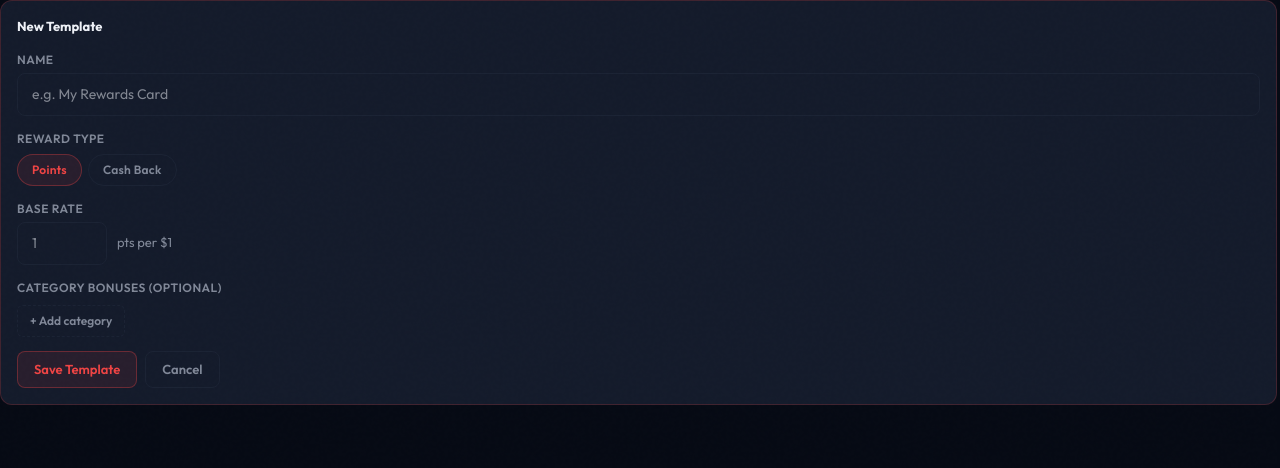
it: CustomProgramForm › adds and removes bonus category rows
Step 1. Click the button "+ Add category" → (71, 320), box [17, 304, 125, 336]
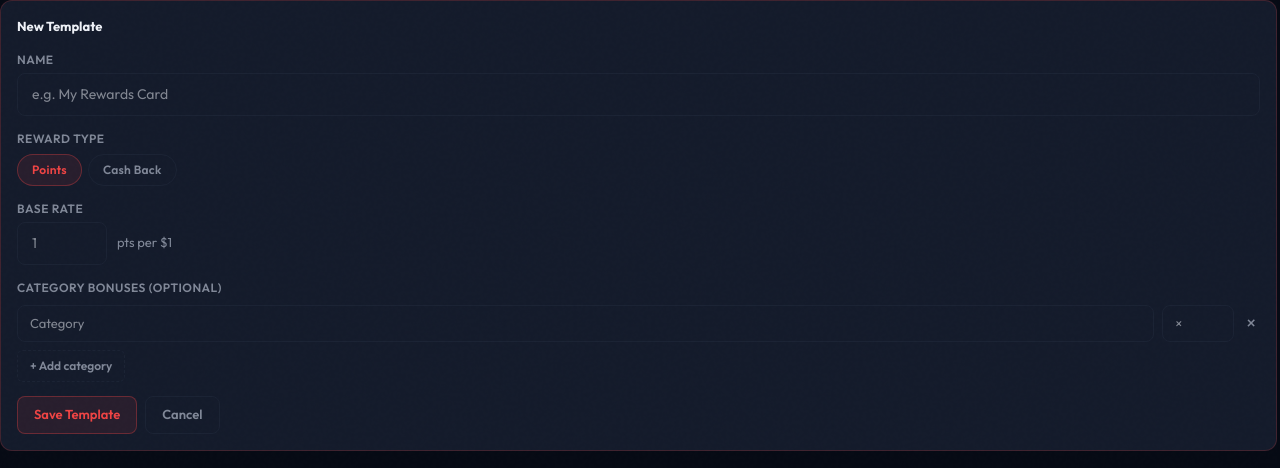
Expected: the field named "Reward category" is shown, [17, 304, 1154, 342]
Step 2. Click the button named "Remove category" → (1251, 323), box [1242, 310, 1260, 336]
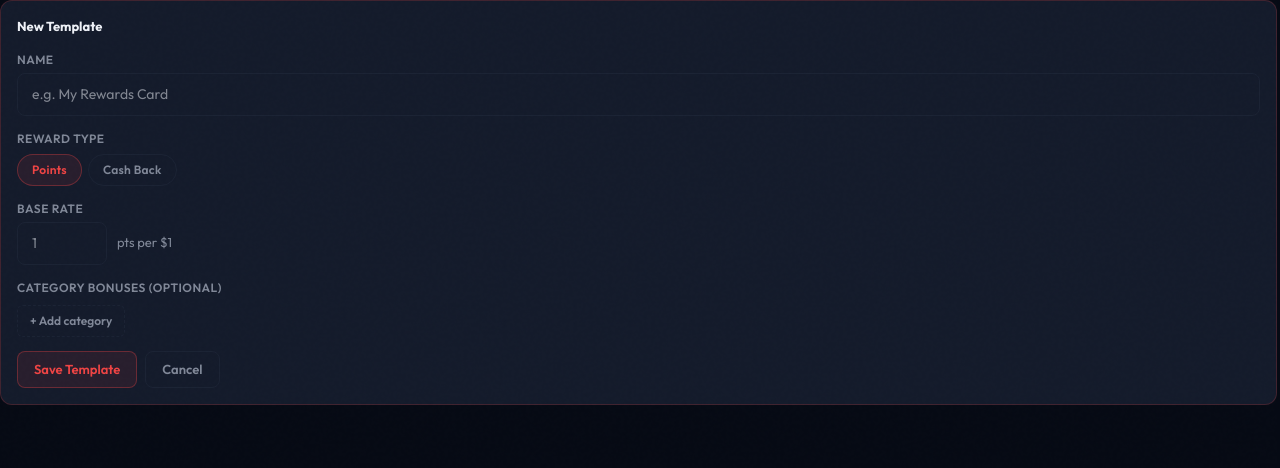
Expected: the field labelled "Reward category" is gone
